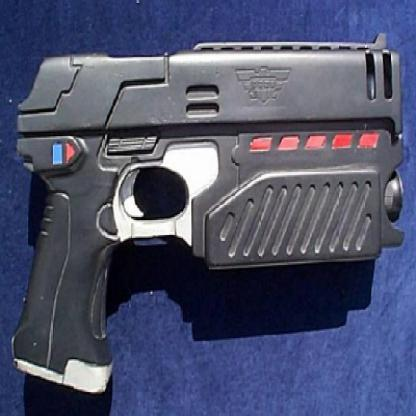Guns: (7, 30, 406, 392)
